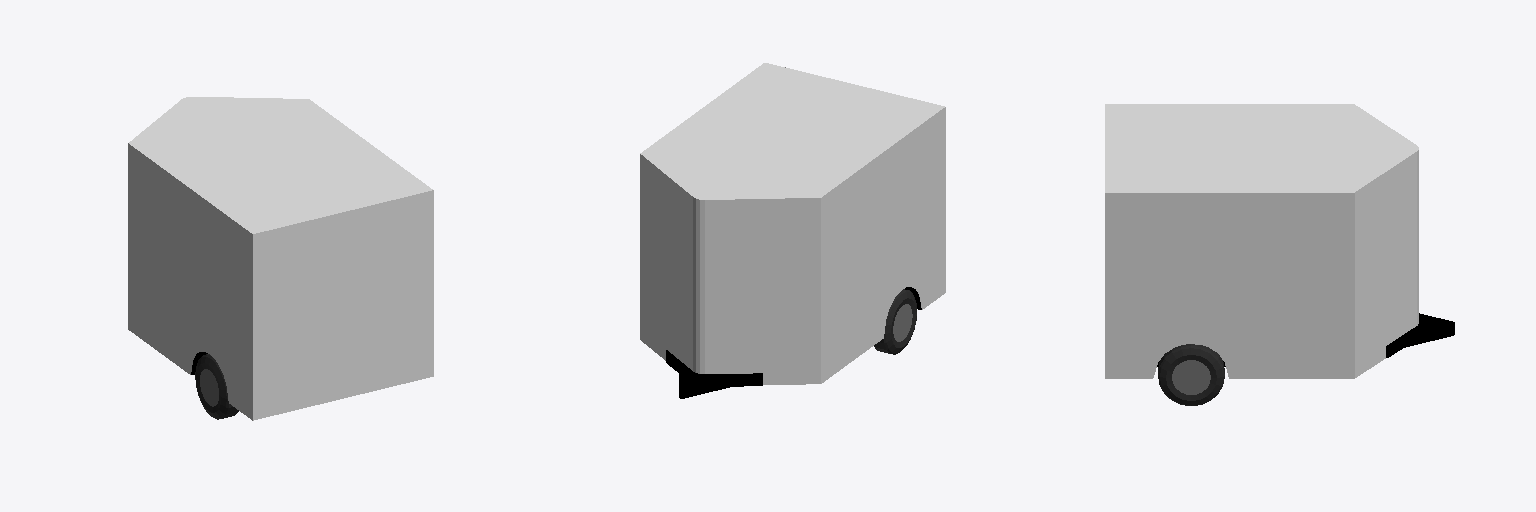
File: Trailer_10ft.obj
The picture shows the model from 3 angles: view 1: azimuth 30°, elevation 25°; view 2: azimuth 150°, elevation 25°; view 3: azimuth 270°, elevation 25°; orthographic projection.
Parts seen in each view (by area): view 1: trailer_10ft; view 2: trailer_10ft; view 3: trailer_10ft.
Part boxes in pixels (bbox=[...]): trailer_10ft: bbox=[128, 97, 433, 420]; trailer_10ft: bbox=[640, 63, 945, 398]; trailer_10ft: bbox=[1105, 104, 1454, 405].
Size of the model in its own units: 203 by 227 by 334.